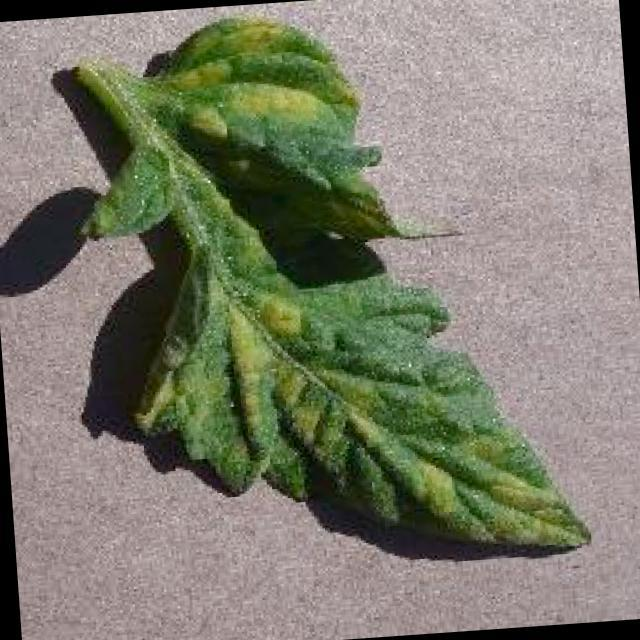Tomato mold leaf: (66, 0, 593, 582)
